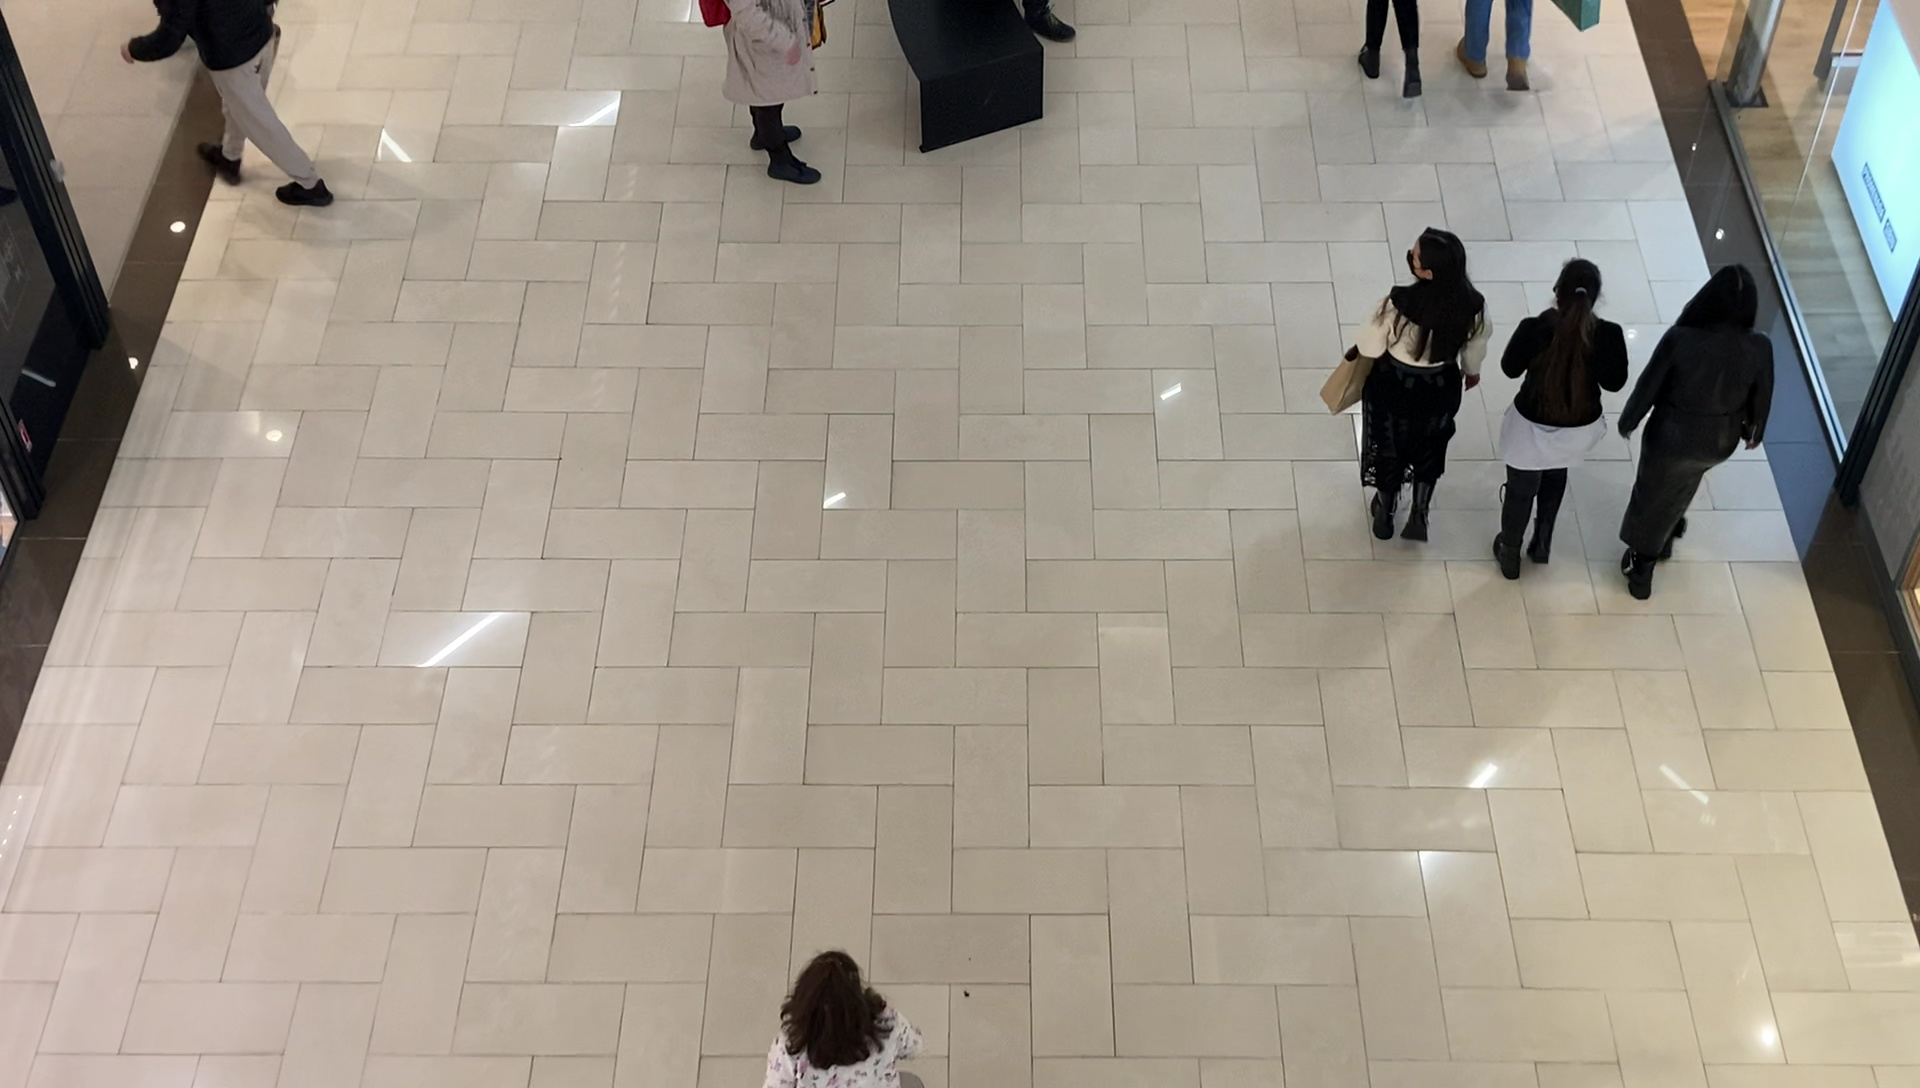person: (1627, 266, 1775, 599), (121, 3, 339, 208), (1355, 227, 1491, 546), (1502, 258, 1626, 582), (763, 951, 923, 1088)
